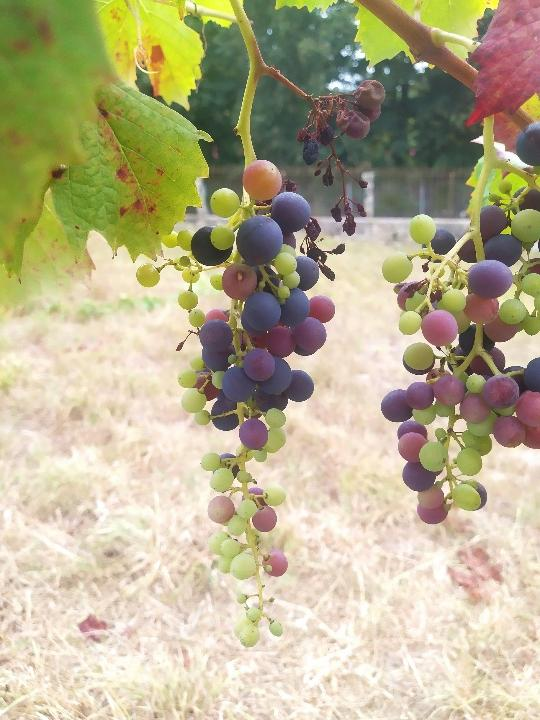grape: (138, 159, 351, 650), (379, 114, 538, 525), (293, 68, 387, 237)
